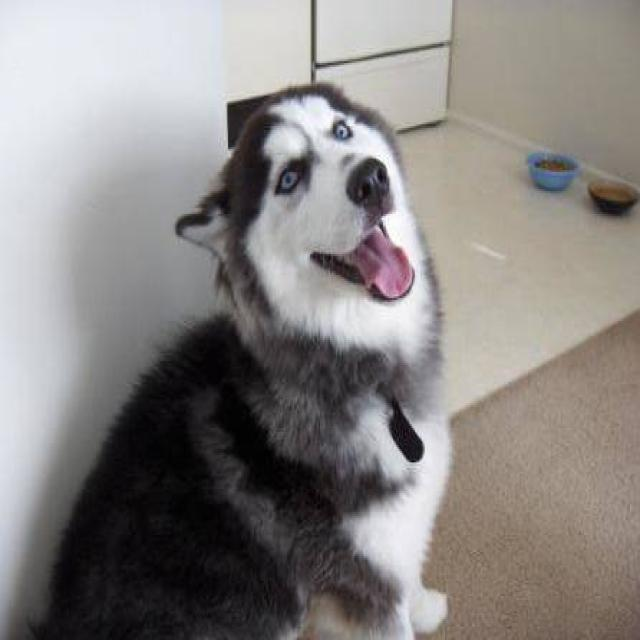adult_dog: (35, 82, 454, 639)
